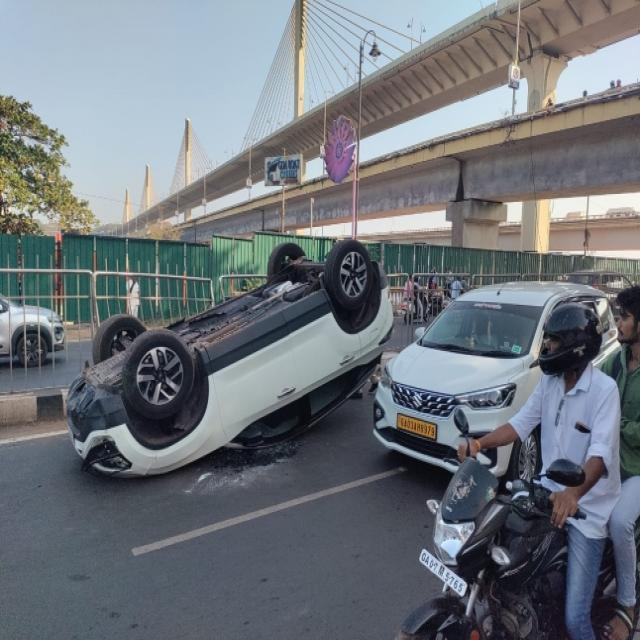accident: (66, 240, 392, 475)
car: (372, 281, 617, 472), (0, 295, 65, 367)
motorcycle: (398, 286, 639, 639)
